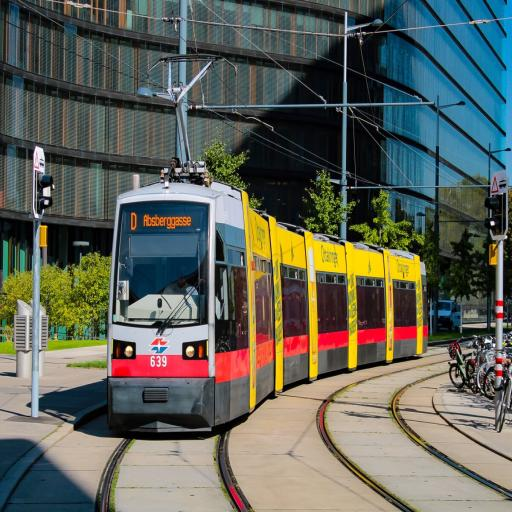ULF: (107, 178, 428, 433)
